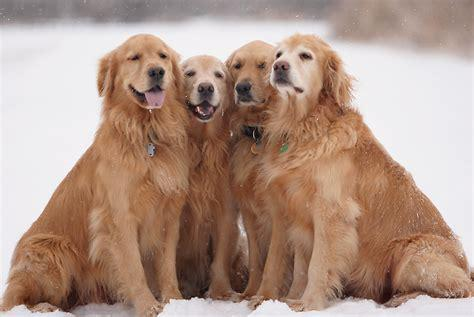dog: (269, 35, 474, 311), (1, 34, 180, 317), (177, 56, 243, 301), (225, 40, 275, 296)
